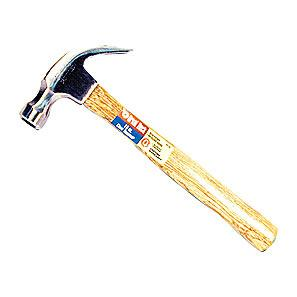hammer: (17, 42, 278, 252)
